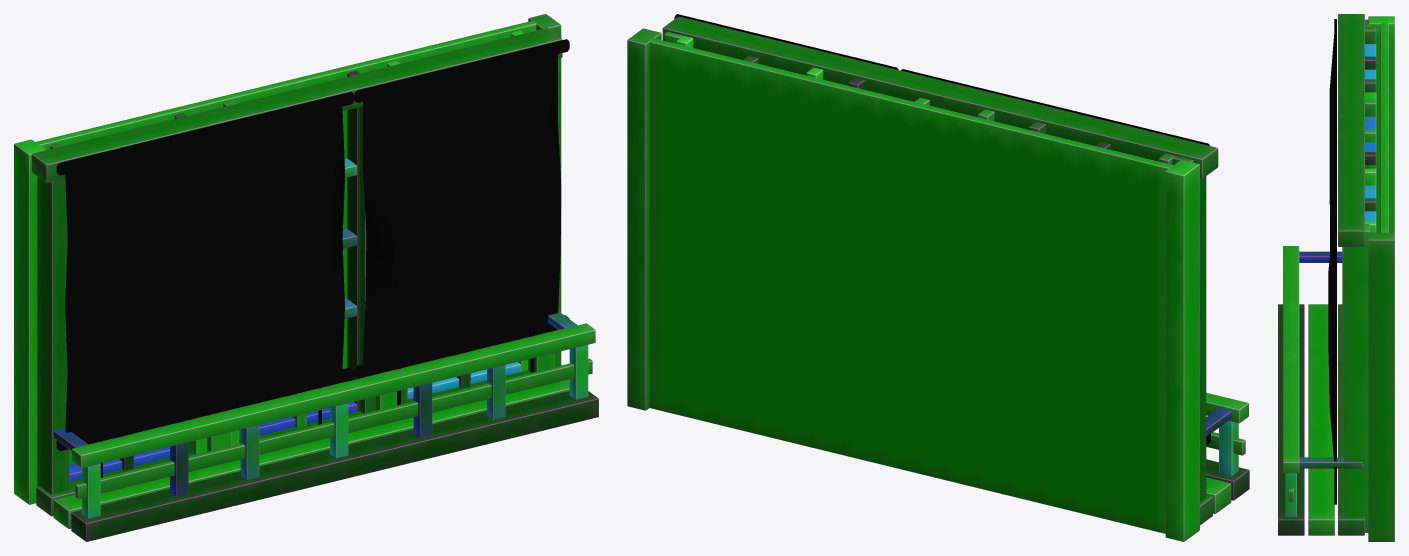
Rendered from window_400x350_01.fbx.
3 views of the same model, side by side, from view 1: azimuth 30°, elevation 25°; view 2: azimuth 150°, elevation 25°; view 3: azimuth 270°, elevation 25° (orthographic). The views are drawn at different scales.
Visible parts, largest first — view 1: window_400x350_01; view 2: window_400x350_01; view 3: window_400x350_01.
Boxes of the visible parts, x1,y1,x2,y2 form: window_400x350_01: (14,14,598,541); window_400x350_01: (627,14,1249,541); window_400x350_01: (1278,14,1394,541).
Bounding box in the file's own units: 3.21 × 2.04 × 0.7092.
